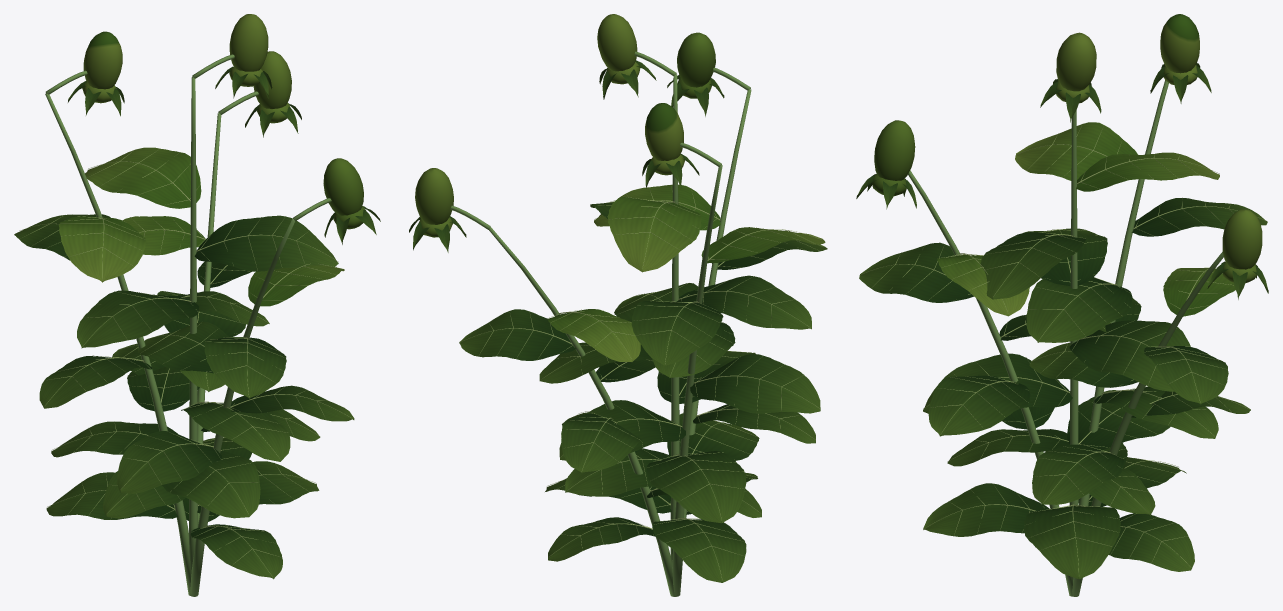
The model's file is bellflower-07.glb.
3 renders of one model, left to right at view 1: azimuth 30°, elevation 25°; view 2: azimuth 150°, elevation 25°; view 3: azimuth 270°, elevation 25°, orthographic. The views are drawn at different scales.
Parts seen in each view (by area): view 1: bellflower_stage_07_leaf_veins.012, bellflower_stage_07_young_leaf.012, bellflower_stage_07_stem_fibres.012, bellflower_stage_07_raised_midveins.012; view 2: bellflower_stage_07_leaf_veins.012, bellflower_stage_07_young_leaf.012, bellflower_stage_07_stem_fibres.012, bellflower_stage_07_raised_midveins.012; view 3: bellflower_stage_07_leaf_veins.012, bellflower_stage_07_young_leaf.012, bellflower_stage_07_stem_fibres.012, bellflower_stage_07_raised_midveins.012.
Part boxes in pixels (x1,y1,x2,y2): bellflower_stage_07_leaf_veins.012: (14, 66, 380, 579); bellflower_stage_07_young_leaf.012: (58, 14, 365, 306); bellflower_stage_07_stem_fibres.012: (45, 54, 331, 596); bellflower_stage_07_raised_midveins.012: (19, 150, 352, 577); bellflower_stage_07_leaf_veins.012: (409, 60, 827, 582); bellflower_stage_07_young_leaf.012: (415, 14, 825, 361); bellflower_stage_07_stem_fibres.012: (450, 51, 751, 596); bellflower_stage_07_raised_midveins.012: (460, 186, 823, 580); bellflower_stage_07_leaf_veins.012: (856, 63, 1268, 579); bellflower_stage_07_young_leaf.012: (872, 14, 1262, 316); bellflower_stage_07_stem_fibres.012: (908, 80, 1223, 596); bellflower_stage_07_raised_midveins.012: (860, 126, 1267, 575).
Bounding box in the file's own units: 0.3079 × 0.4975 × 0.3146.
Materials: 4 (2 with a texture image).
